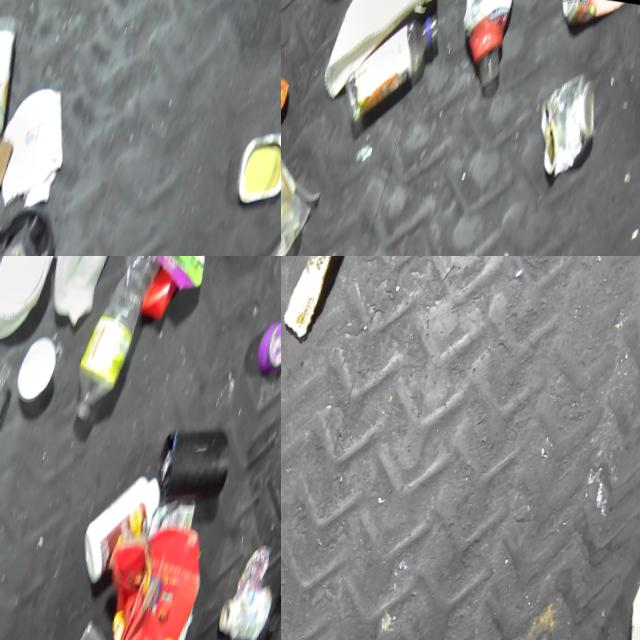can: (526, 69, 613, 186), (232, 126, 281, 214), (547, 0, 638, 43), (281, 41, 301, 132), (253, 320, 281, 384)
milk_jug: (2, 256, 139, 336)
non_white_jug: (0, 198, 72, 256)
plastic_bottle: (68, 256, 172, 431), (337, 5, 444, 135)
